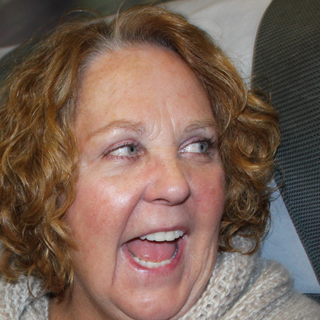eye: (101, 139, 143, 161), (178, 136, 215, 157)
